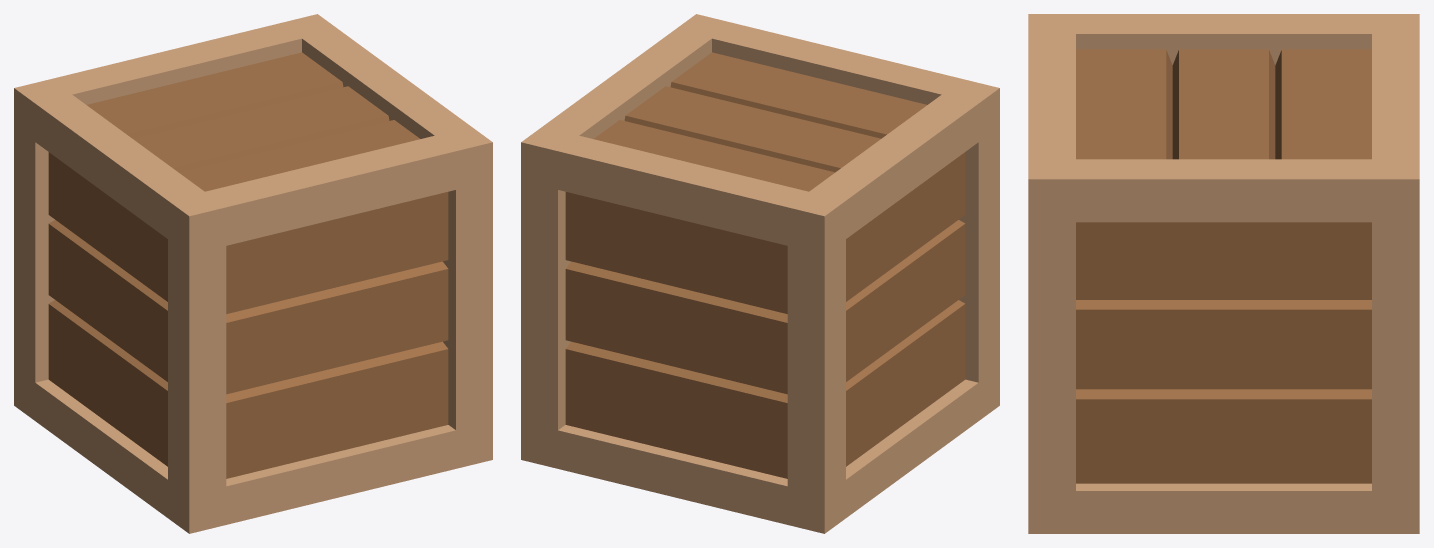
Rendered from crate-2.fbx.
The picture shows the model from 3 angles, left to right: view 1: azimuth 30°, elevation 25°; view 2: azimuth 150°, elevation 25°; view 3: azimuth 270°, elevation 25°; orthographic projection. The views are drawn at different scales.
Visible parts, largest first — view 1: crate-2; view 2: crate-2; view 3: crate-2.
Boxes of the visible parts, box(x1,y1,x2,y2) form: crate-2: box(14, 14, 492, 533); crate-2: box(521, 14, 999, 533); crate-2: box(1028, 14, 1419, 533).
Bounding box in the file's own units: 47.96 × 47.96 × 47.96.
